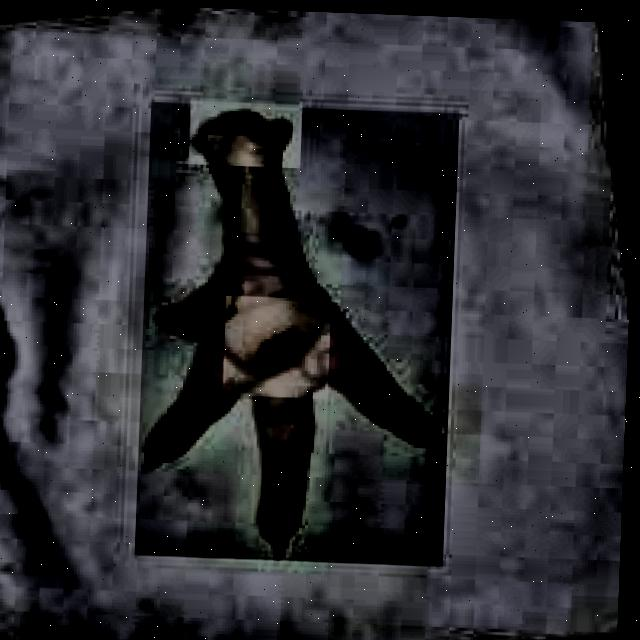Bumble foot: (141, 107, 456, 563), (258, 325, 305, 365)
